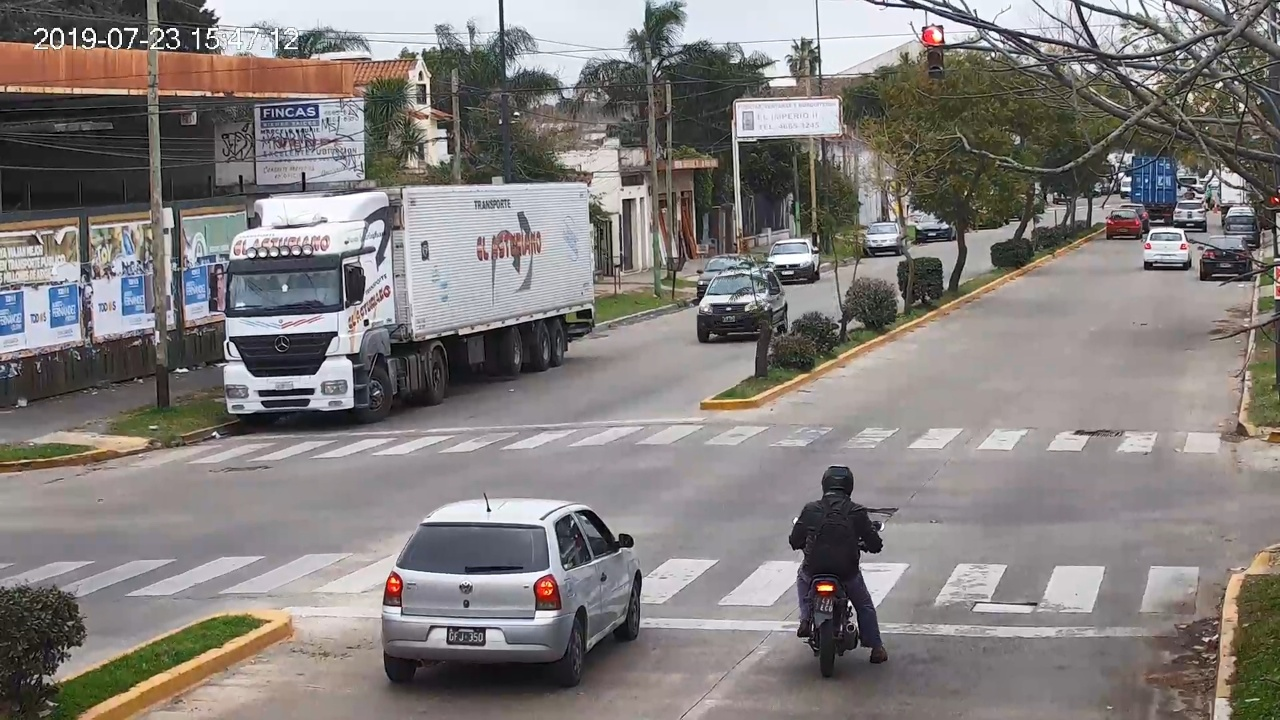car: (381, 499, 643, 686)
motorcycle: (788, 497, 885, 677)
traffic light: (924, 27, 944, 76)
